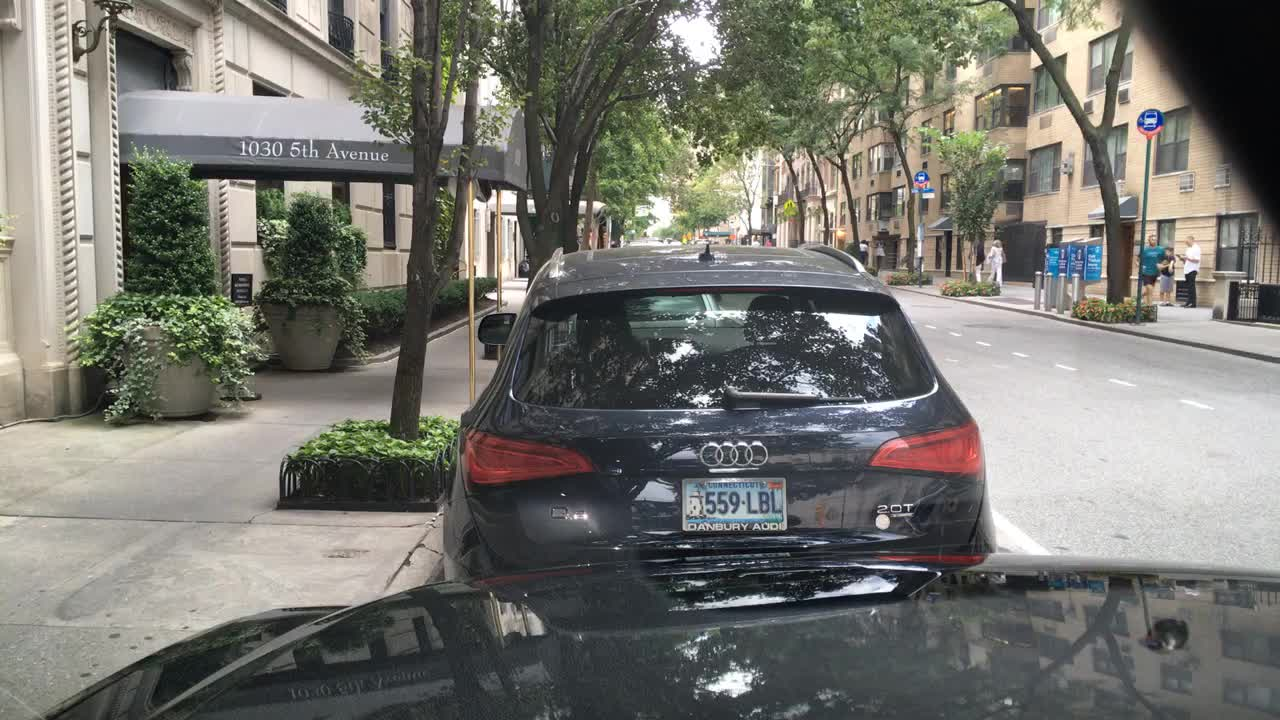car: (439, 238, 998, 581), (858, 237, 869, 263), (766, 234, 774, 248)
person: (1175, 234, 1203, 310), (1141, 236, 1163, 303), (1158, 244, 1175, 303), (984, 239, 1006, 283), (974, 239, 984, 283), (876, 237, 886, 271)
traffic sign: (1138, 109, 1165, 133), (781, 200, 799, 217), (912, 168, 929, 185), (921, 187, 934, 199)
